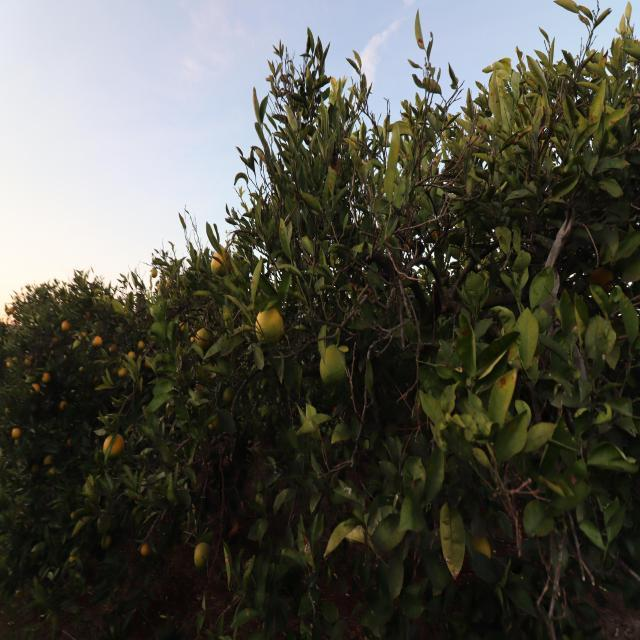Jeruk Belum Matang: (319, 345, 347, 385), (256, 310, 286, 343), (211, 248, 231, 274), (193, 542, 210, 569), (196, 328, 214, 352), (223, 386, 236, 404), (118, 369, 127, 377), (138, 340, 144, 350)
Jeruk Sudah Matang: (102, 434, 126, 459), (140, 542, 151, 556), (28, 383, 40, 394), (11, 428, 21, 438), (94, 336, 102, 348), (61, 320, 70, 330), (42, 373, 50, 382), (152, 268, 158, 278), (128, 352, 136, 359)
